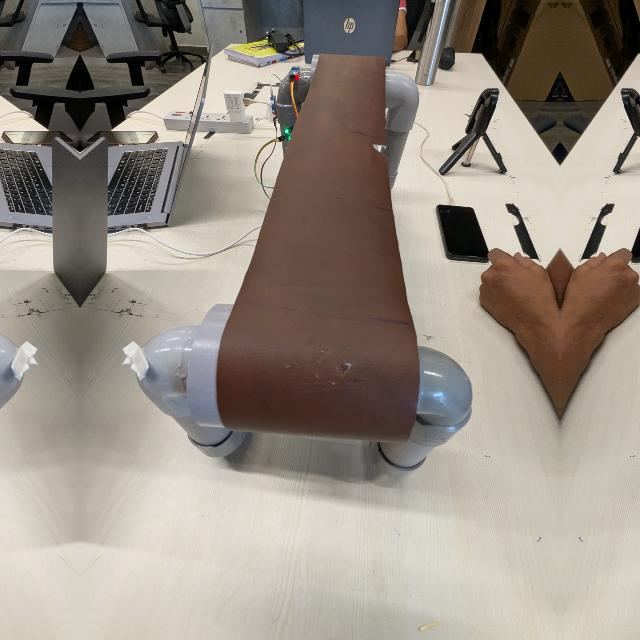belt_crack: (282, 346, 396, 399)
belt_tear: (363, 131, 403, 161)
